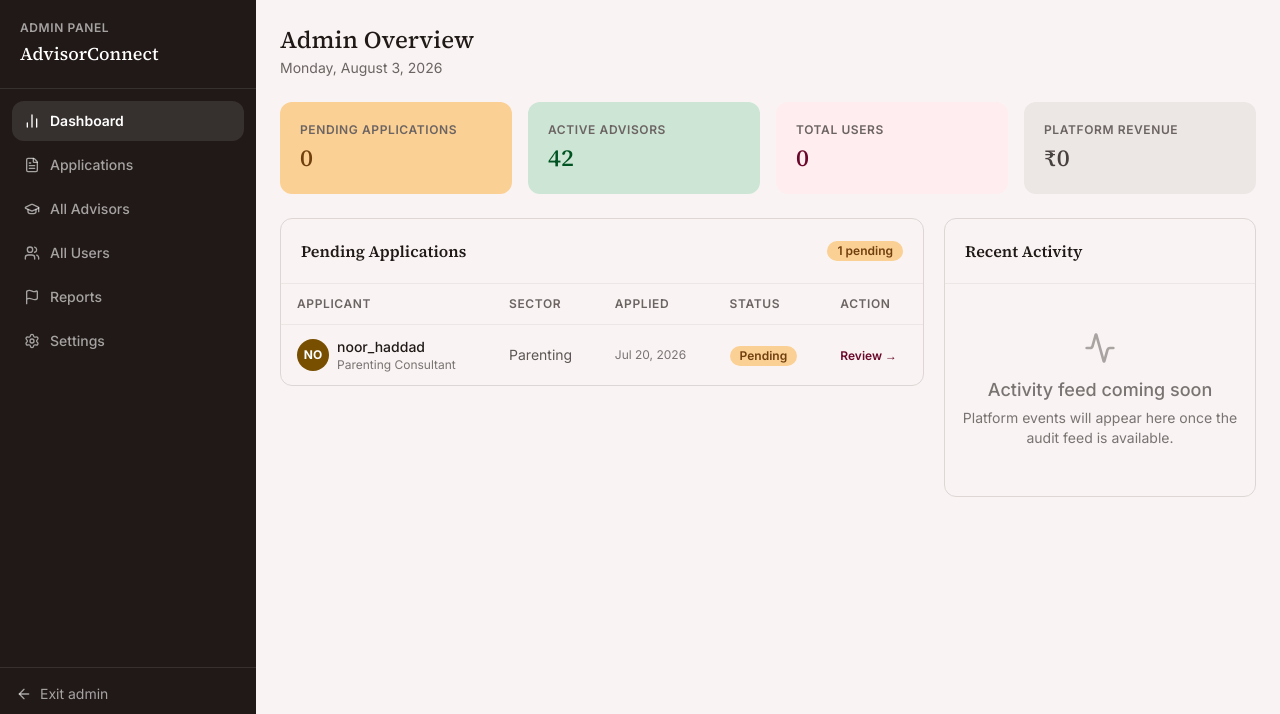
AdminDashboardPage › detail panel row selection › opens the application whose row was clicked, not the first one
This screenshot has width=1280, height=714.
Click the button "Applications": (128, 165) [12,145,244,185]
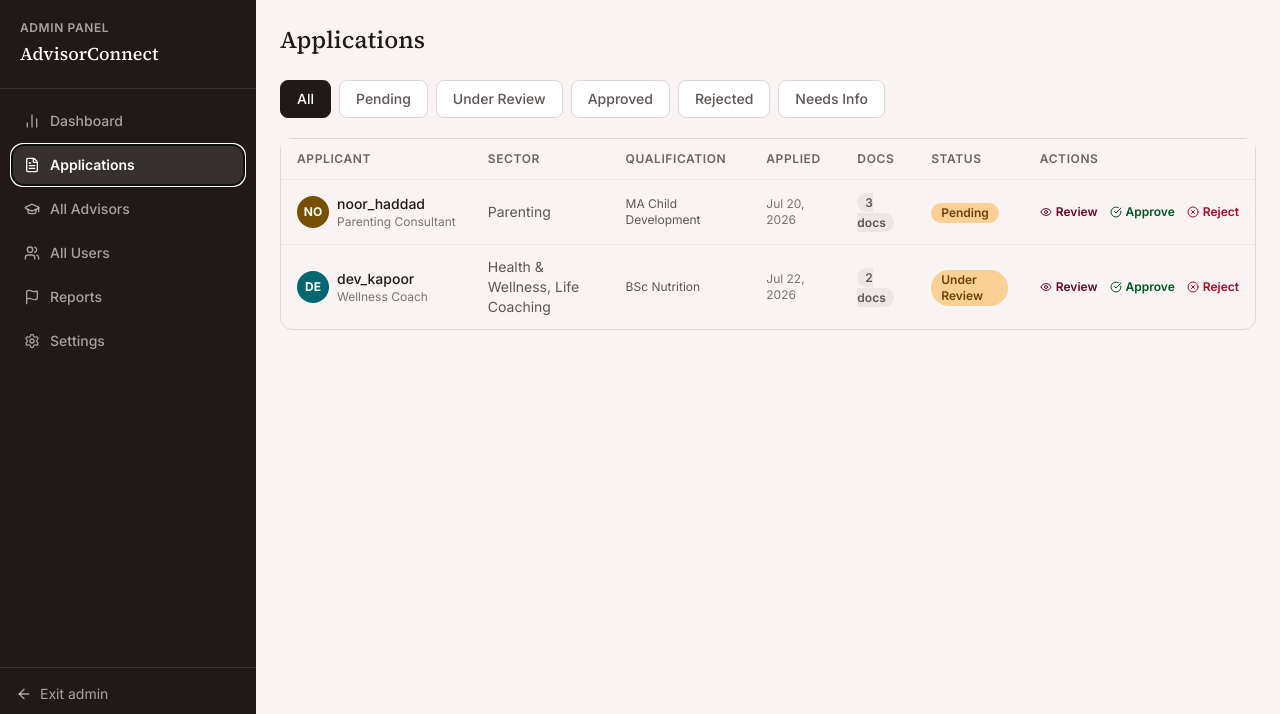
Click the button "Review" in the row of "dev_kapoor": (1069, 287) [1040,279,1098,295]
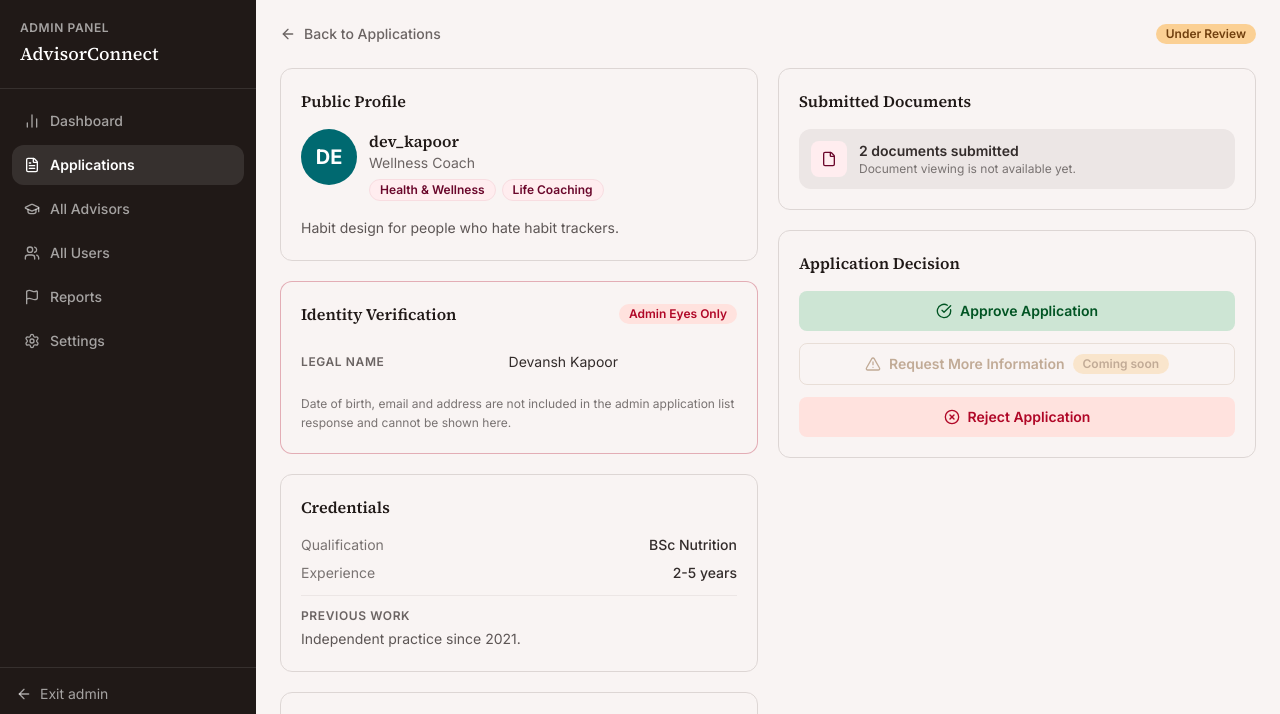
Check: the text "BSc Nutrition" is shown, box [649,535,737,555]
Check: the text "Habit design for people who hate habit trackers." is shown, box [301,219,619,236]
Check: the text "Devansh Kapoor" is shown, box [508,342,737,382]
